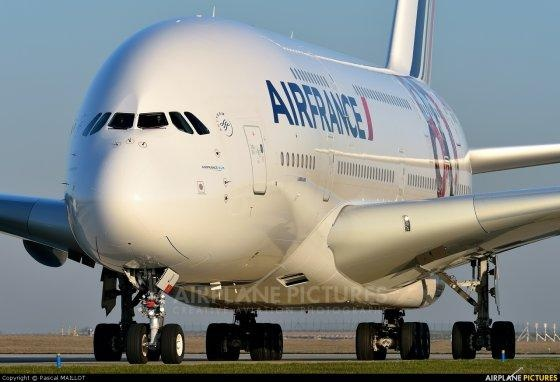airplane: (3, 1, 560, 358)
